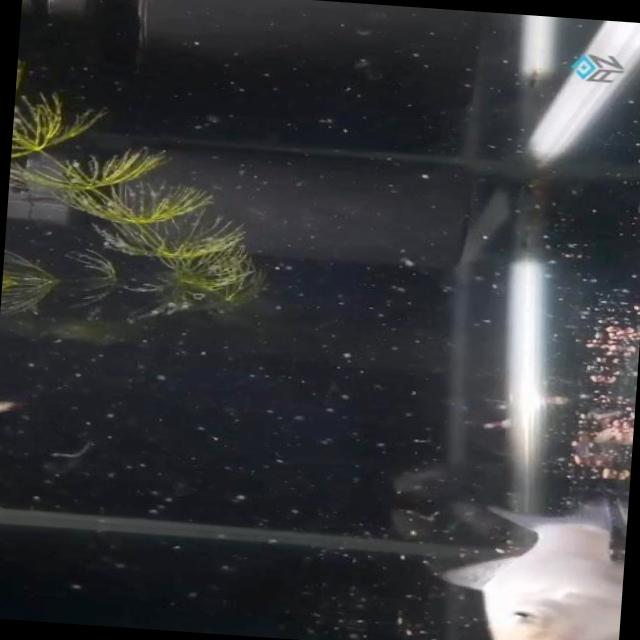PlatyFish: (415, 481, 628, 640)
